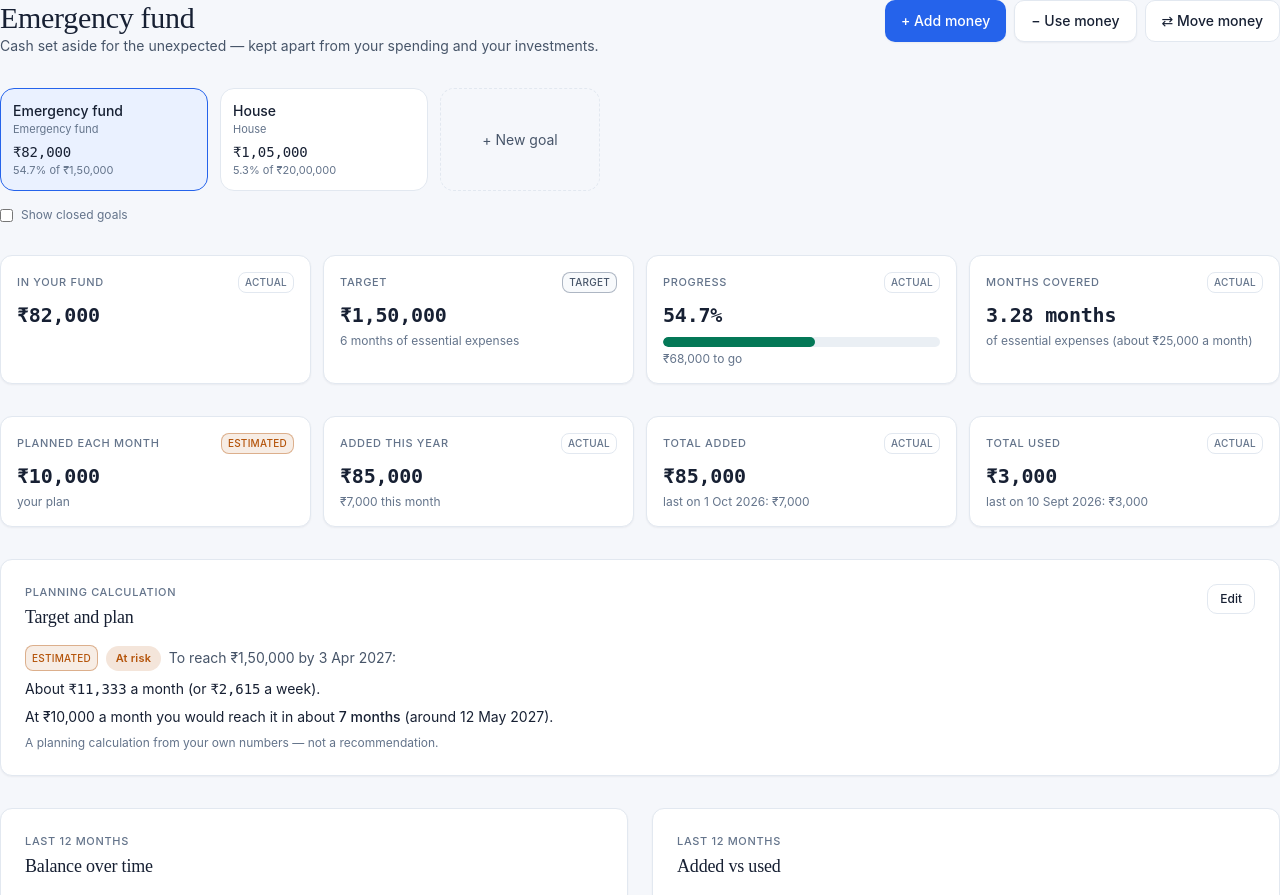
Money → Goals — Add money › Part 59: ₹7,000 added → an ALLOCATE on THIS goal with a request id, described as saved (not spent), and every page is told
Expected: the text "3.28 months" is shown, [986,303,1116,327]
Click the button "+ Add money". click: click(946, 21)
box: [885,0,1006,42]
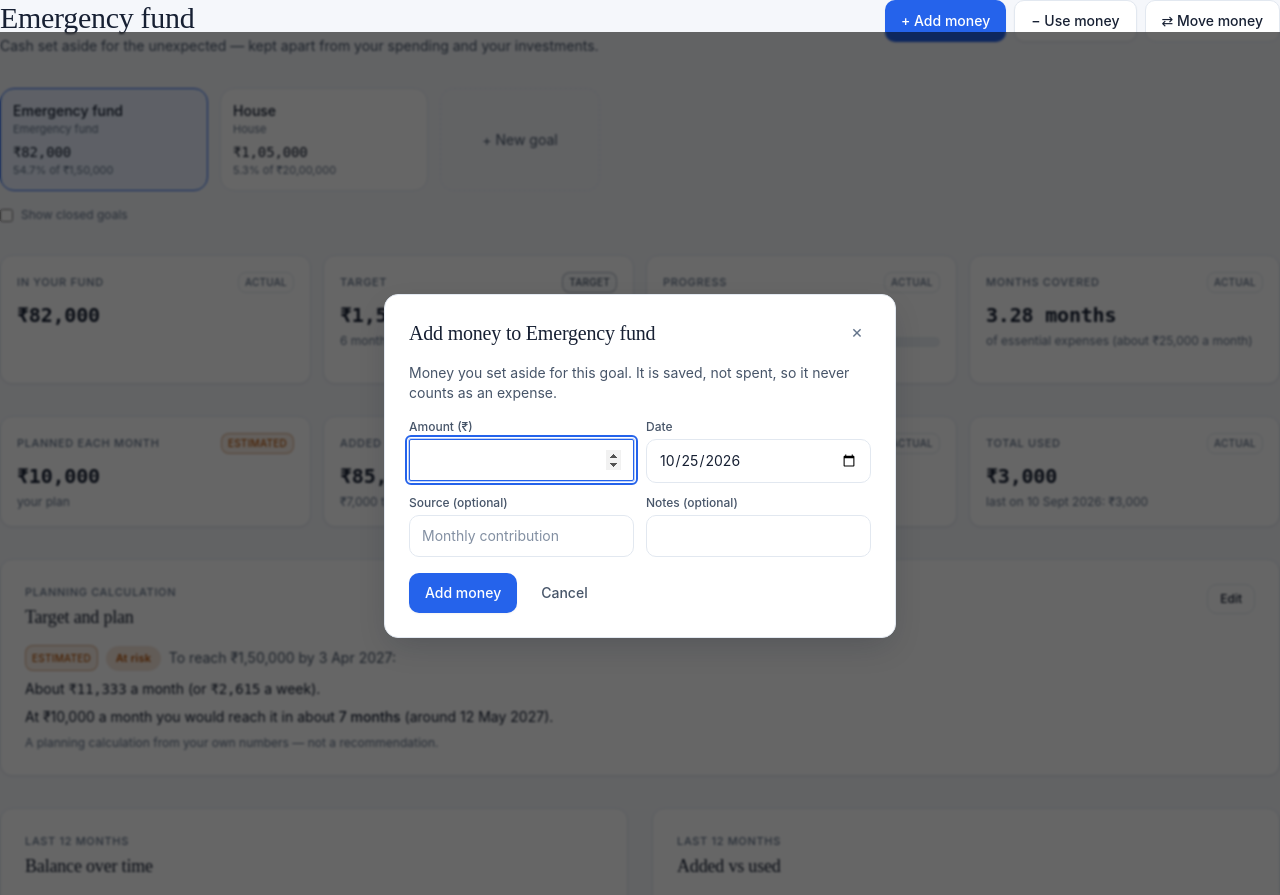
Expected: the text "never counts as an expense" is shown, [409,364,849,401]
Type "7000" into the number field labelled "Amount (₹)". click: (522, 460)
box: [409,439,634,481]
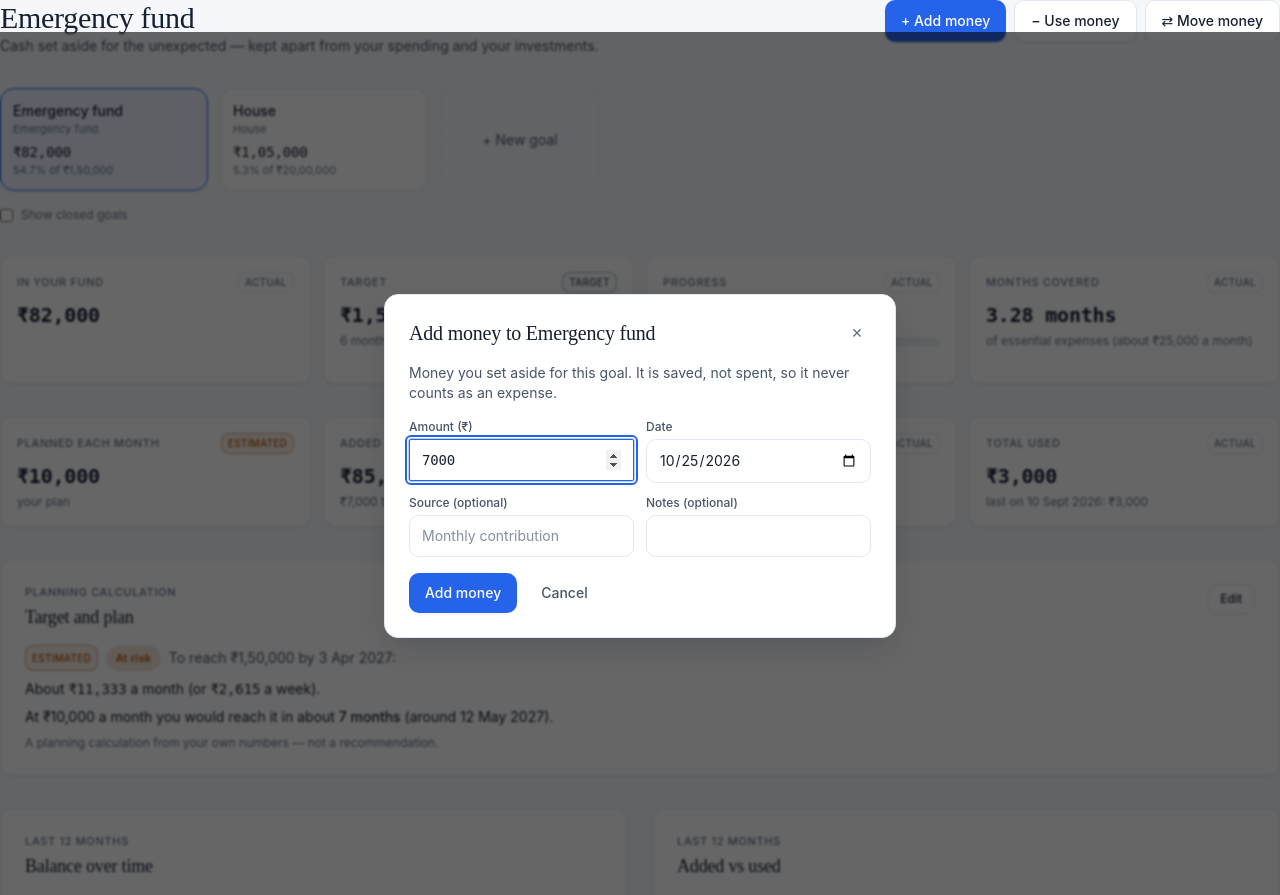
Type "Bonus" into the field labelled "Source (optional)". click: (522, 536)
box: [409,515,634,557]
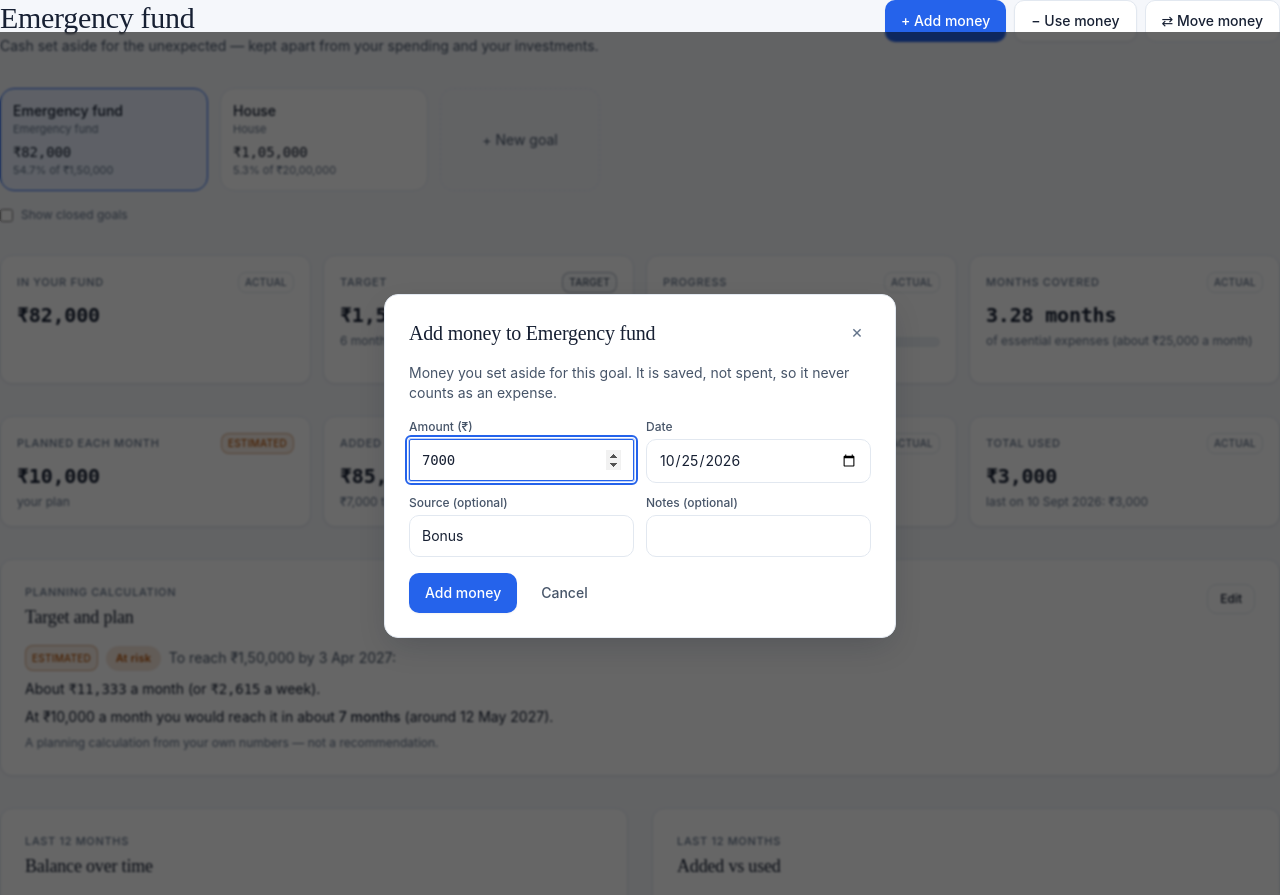
Click the button "Add money". click: click(463, 593)
box: [409,573,517,613]
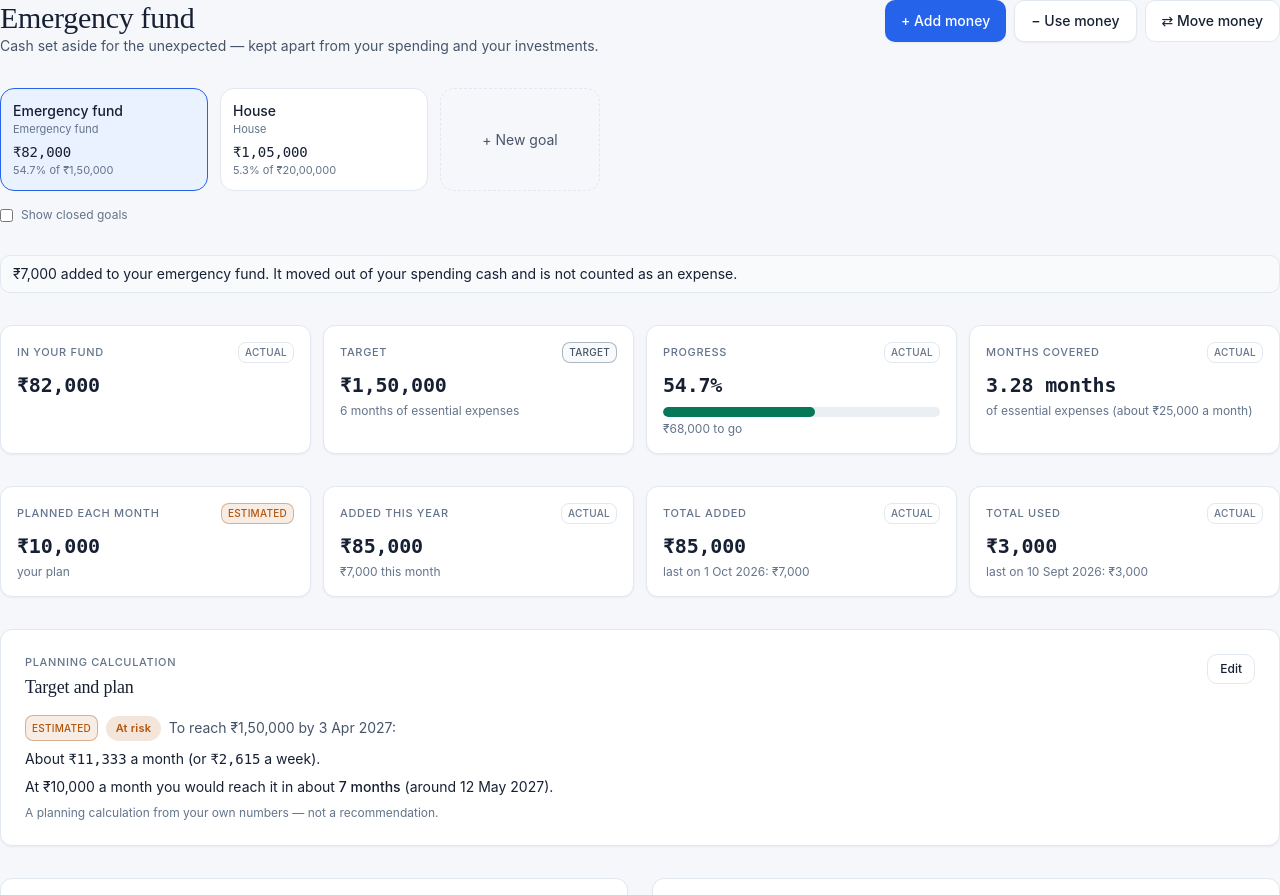
Expected: the message shows "not counted as an expense", [13,265,737,282]
